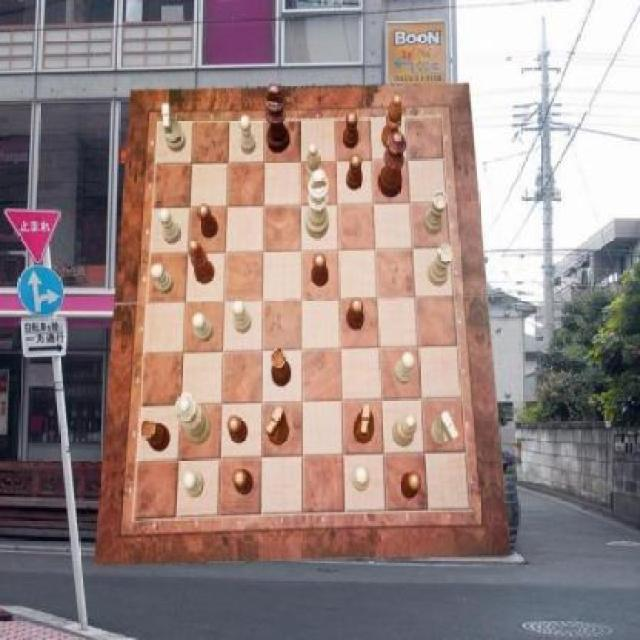bishop: (191, 238, 215, 284), (382, 95, 402, 150)
black-bishop: (264, 83, 290, 152)
black-king: (264, 406, 288, 446), (354, 404, 374, 444)
black-knight: (197, 203, 218, 238), (312, 252, 330, 287), (346, 297, 364, 331), (348, 152, 364, 190), (343, 111, 359, 148), (400, 472, 421, 500), (228, 417, 248, 445), (234, 469, 254, 495)
black-pawn: (379, 132, 406, 198)
black-queen: (140, 418, 171, 452), (271, 348, 291, 386)
black-rook: (304, 143, 324, 197), (392, 415, 416, 448)
white-bishop: (304, 170, 328, 238)
white-king: (162, 105, 186, 152), (431, 411, 458, 445)
white-knight: (158, 208, 182, 244), (151, 263, 174, 294), (232, 300, 252, 334), (240, 116, 257, 156), (394, 352, 414, 385), (192, 314, 213, 343), (183, 471, 204, 498), (352, 465, 370, 490)
white-pawn: (176, 394, 212, 446)
white-queen: (423, 190, 447, 234), (429, 243, 454, 285)
